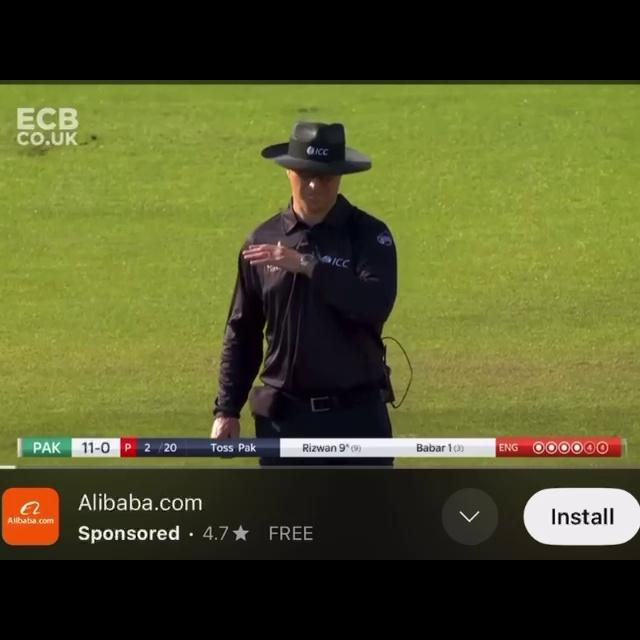umpire: (178, 111, 479, 437)
